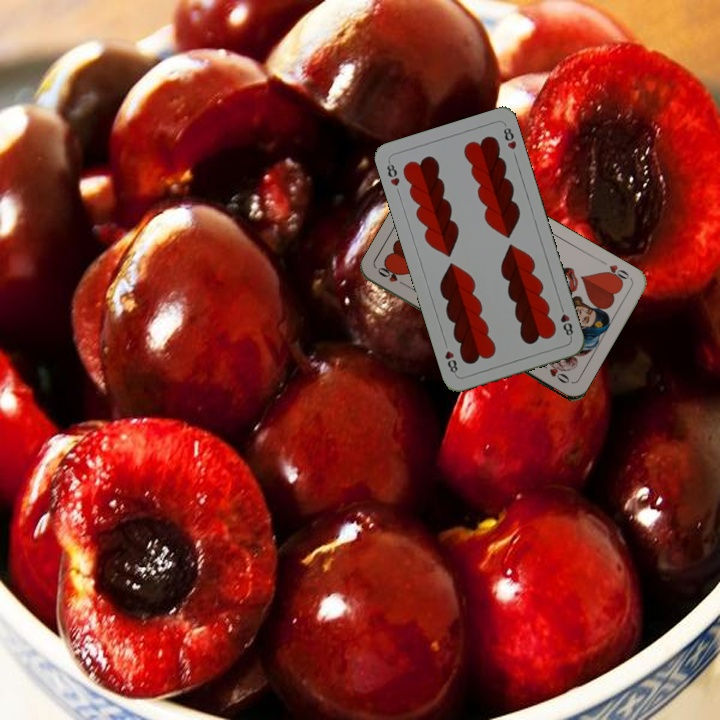H8: (556, 301, 576, 340), (382, 157, 402, 189)
HO: (596, 256, 633, 286), (373, 263, 410, 290)
